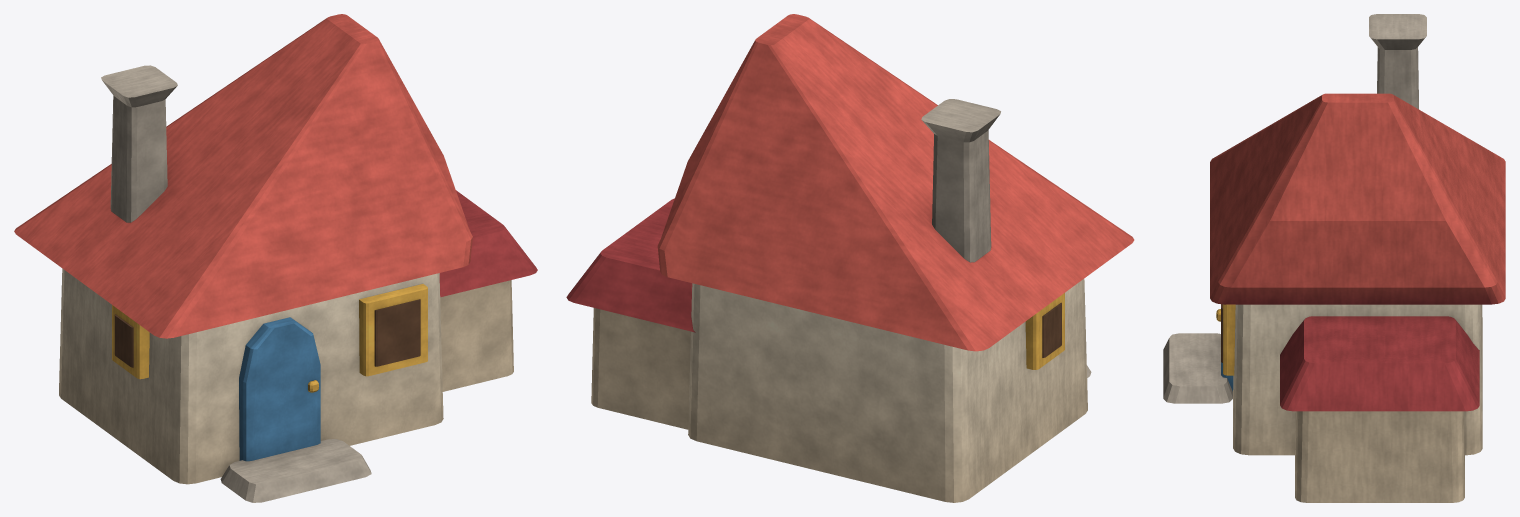
The model's file is hybrid_cottage.glb.
The picture shows the model from 3 angles, left to right: view 1: azimuth 30°, elevation 25°; view 2: azimuth 150°, elevation 25°; view 3: azimuth 270°, elevation 25°; orthographic projection. The views are drawn at different scales.
Visible parts, largest first — view 1: Cottage; view 2: Cottage; view 3: Cottage.
Boxes of the visible parts, bbox=[...] form: Cottage: bbox=[14, 14, 537, 502]; Cottage: bbox=[566, 14, 1134, 502]; Cottage: bbox=[1163, 14, 1505, 502].
Size of the model in its own units: 4.68 by 3.78 by 3.43.
Materials: 1 (1 with a texture image).
